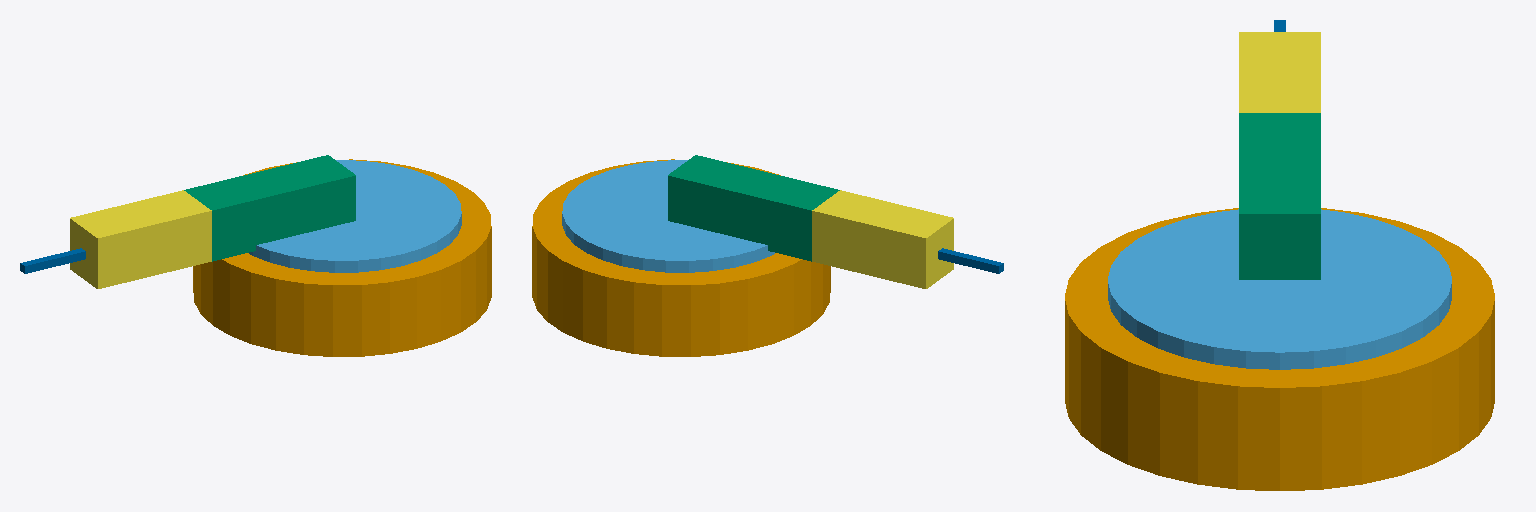
robot.urdf — roco_arm:
<?xml version="1.0"?>
<robot name="roco_arm">
  <link name="base_link">
    <visual>
      <geometry>
        <cylinder length="0.045" radius="0.085"/>
      </geometry>
    </visual>
  </link>

  <link name="arm_turret">
    <visual>
      <geometry>
        <cylinder length="0.025" radius="0.068"/>
      </geometry>
      <origin rpy="0 0 0" xyz="0 0 0" />
    </visual>
  </link>

  <link name="first_segment">
    <visual>
      <geometry>
        <box size="0.095 0.032 0.032"/>
      </geometry>
      <origin rpy="0 0 0" xyz="-0.0475 0 0" />
    </visual>
  </link>

  <link name="second_segment">
    <visual>
      <geometry>
        <box size="0.075 0.032 0.032"/>
      </geometry>
      <origin rpy="0 0 0" xyz="-0.0375 0 0" />
    </visual>
  </link>

  <link name="grabber_1">
     <visual>
       <geometry>
         <box size="0.045 0.005 0.005"/>
       </geometry>
       <origin rpy="0 0 0" xyz="-0.0175 0 0" />
     </visual>
  </link>

 <joint name="turret_swivel" type="continuous">
    <axis xyz="0 0 1" />
    <parent link="base_link"/>
    <child link="arm_turret"/>
    <origin xyz="0 0 0.0175" />
  </joint>

  <joint name="turret_to_first" type="revolute">
    <axis xyz="0 1 0" />
    <limit effort="1000" lower="0" upper="3.14" velocity="0.1" />
    <parent link="arm_turret"/>
    <child link="first_segment"/>
    <origin xyz="0 0 0.025" />
  </joint>

  <joint name="first_to_second" type="revolute">
     <axis xyz="0 1 0" />
     <limit effort="1000" lower="-1.57" upper="1.57" velocity="0.1" />
     <parent link="first_segment"/>
     <child link="second_segment"/>
     <origin xyz="-0.095 0 0" />
  </joint>

  <joint name="second_to_grabber" type="revolute">
     <axis xyz="0 1 0" />
     <limit effort="1000" lower="0" upper="3.14" velocity="0.1" />
     <parent link="second_segment"/>
     <child link="grabber_1"/>
     <origin xyz="-0.075 0 0" />
  </joint>

</robot>

--- Render facts (derived) ---
Views: 3 orthographic renders of the robot side by side, from view 1: azimuth 30°, elevation 25°; view 2: azimuth 150°, elevation 25°; view 3: azimuth 270°, elevation 25°.
Robot: roco_arm — 5 links, 4 joints (3 revolute, 1 continuous); root link base_link; default pose: all joints at 0.
Visible links, largest first — view 1: base_link, arm_turret, first_segment, second_segment, grabber_1; view 2: base_link, arm_turret, first_segment, second_segment, grabber_1; view 3: base_link, arm_turret, first_segment, second_segment.
Boxes of the visible links, left/top/right/bottom form: base_link: left=193, top=159, right=491, bottom=356; arm_turret: left=249, top=160, right=461, bottom=272; first_segment: left=184, top=155, right=355, bottom=261; second_segment: left=70, top=190, right=211, bottom=288; grabber_1: left=20, top=248, right=85, bottom=273; base_link: left=532, top=159, right=830, bottom=356; arm_turret: left=562, top=160, right=774, bottom=272; first_segment: left=668, top=155, right=839, bottom=261; second_segment: left=812, top=190, right=953, bottom=288; grabber_1: left=938, top=248, right=1003, bottom=273; base_link: left=1065, top=208, right=1494, bottom=490; arm_turret: left=1108, top=209, right=1451, bottom=369; first_segment: left=1239, top=113, right=1320, bottom=279; second_segment: left=1239, top=32, right=1320, bottom=112.
Bounding box of the posed robot: 0.295 × 0.17 × 0.081 m (x, y, z).
Geometry: primitives only (box / cylinder / sphere), no mesh files.
